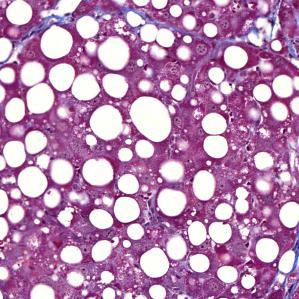fibrosis: (244, 17, 285, 49)
